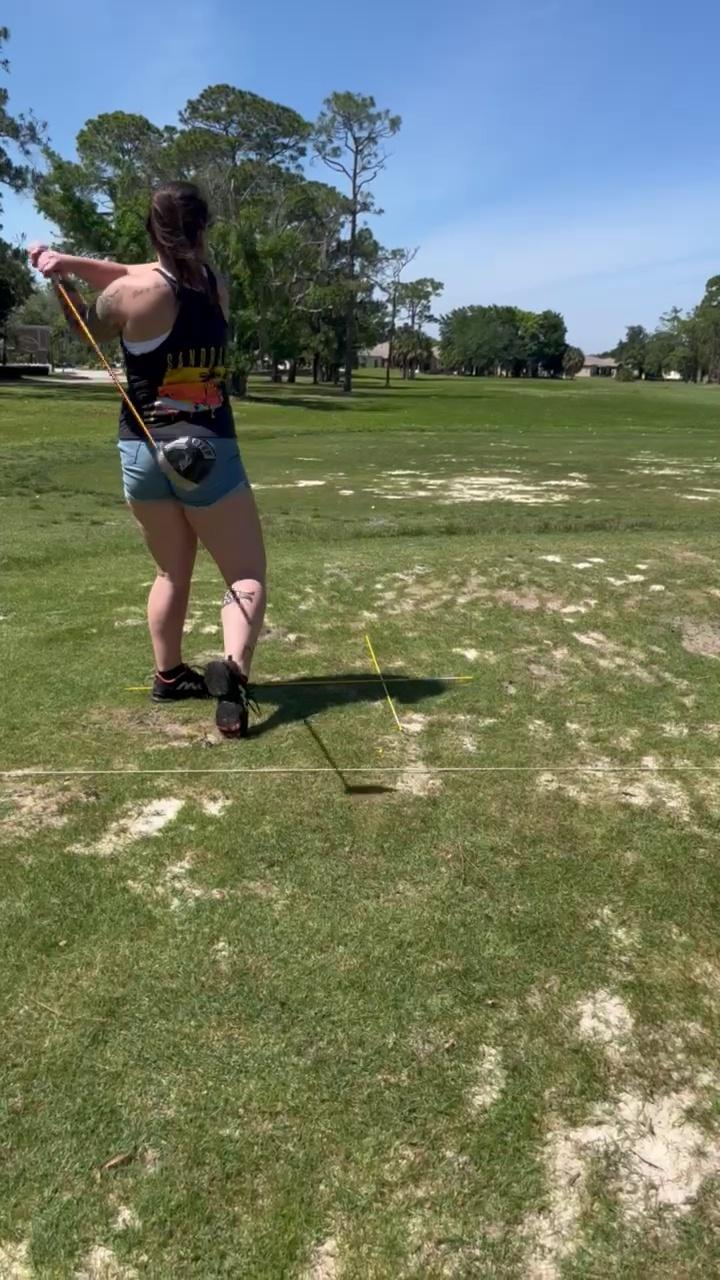ClubHead: (148, 423, 219, 507)
